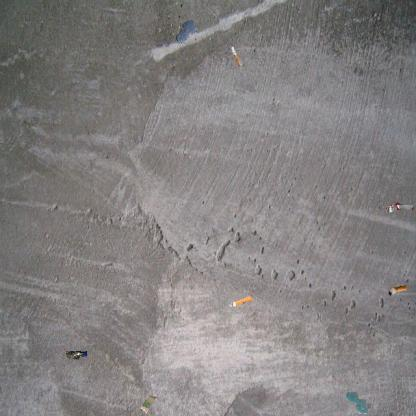dirty: (384, 200, 416, 214), (139, 394, 158, 416), (228, 294, 254, 309), (386, 283, 408, 298), (228, 46, 242, 66), (63, 349, 87, 359)
liquid: (344, 391, 368, 415), (176, 19, 198, 45)
